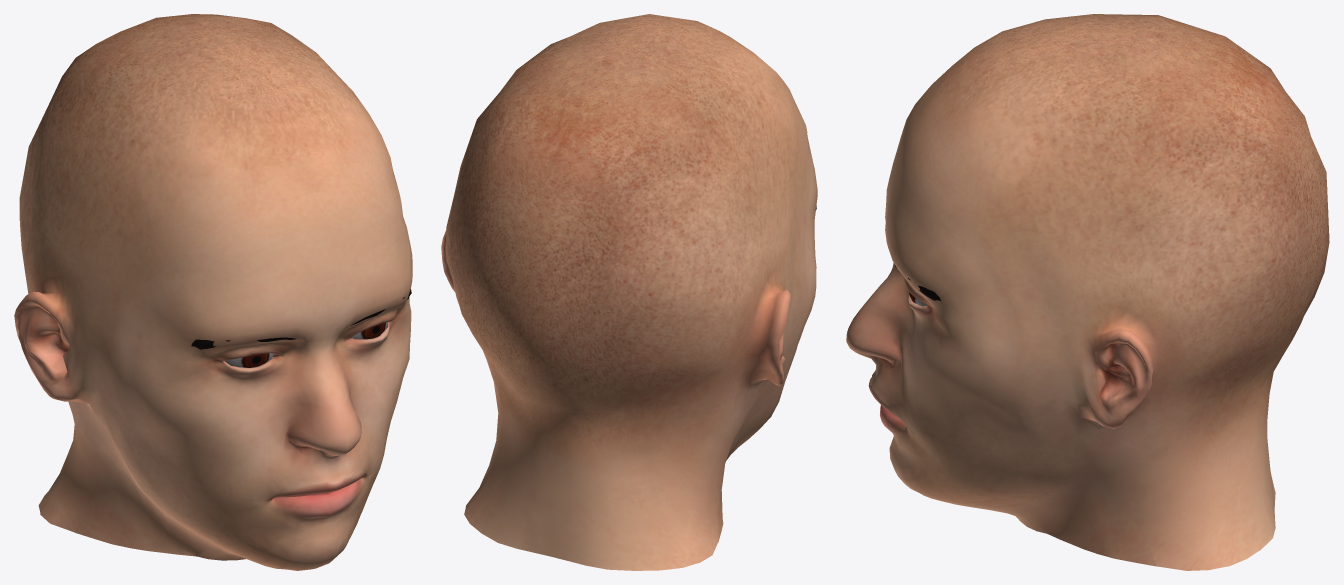
Rendered from head_4_mtn.fbx.
3 views of the same model, side by side, from view 1: azimuth 30°, elevation 25°; view 2: azimuth 150°, elevation 25°; view 3: azimuth 270°, elevation 25° (orthographic). The views are drawn at different scales.
Parts seen in each view (by area): view 1: head_4_mtn; view 2: head_4_mtn; view 3: head_4_mtn.
Part boxes in pixels (box(x1,y1,x2,y2)): head_4_mtn: box(14, 14, 412, 570); head_4_mtn: box(441, 14, 817, 570); head_4_mtn: box(846, 14, 1329, 570).
Bounding box in the file's own units: 78.3 × 100 × 91.07.
1 material, 1 textured.
